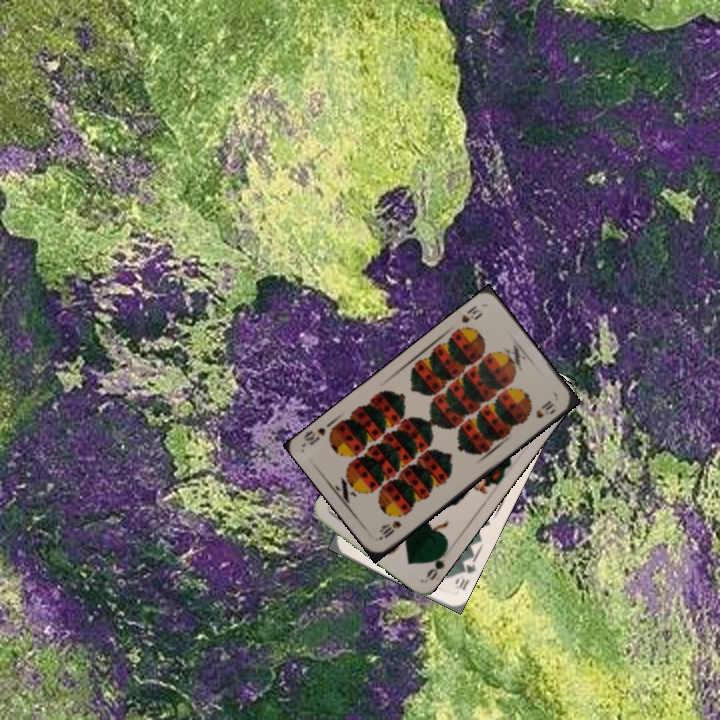G10: (451, 554, 478, 593)
GO: (422, 546, 449, 583)
S10: (376, 516, 404, 542), (457, 301, 486, 326)
